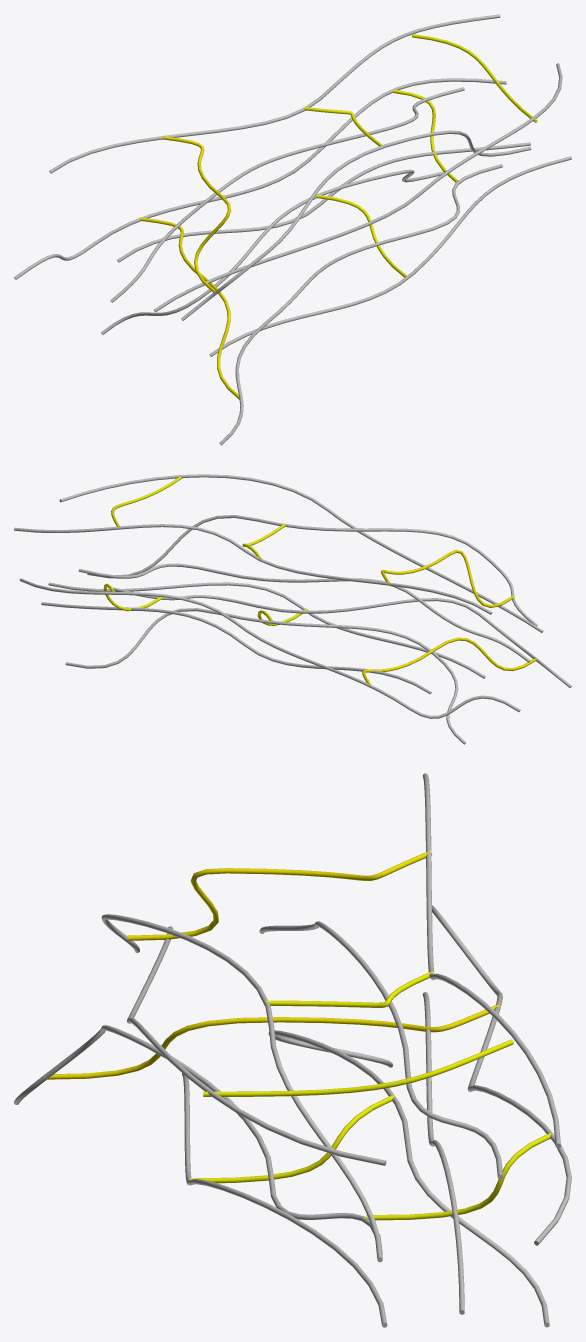
The model's file is Elastomer_Nudel.gltf.
3 views of the same model, one above another, from view 1: azimuth 30°, elevation 25°; view 2: azimuth 150°, elevation 25°; view 3: azimuth 270°, elevation 25° (orthographic). The views are drawn at different scales.
Visible parts, largest first — view 1: BezierCurve.004, BezierCurve.009, BezierCurve.011, BezierCurve.001, BezierCurve.010, BezierCurve.008, BezierCurve.002, BezierCurve, BezierCurve.003, BezierCurve.007, BezierCurve.013, BezierCurve.014; view 2: BezierCurve.004, BezierCurve.011, BezierCurve.009, BezierCurve.003, BezierCurve.008, BezierCurve.001, BezierCurve.010, BezierCurve.002, BezierCurve, BezierCurve.007, BezierCurve.013; view 3: BezierCurve.008, BezierCurve.003, BezierCurve.007, BezierCurve.009, BezierCurve.001, BezierCurve.004, BezierCurve.011, BezierCurve.010, BezierCurve.013, BezierCurve.002, BezierCurve, BezierCurve.014 (+3 smaller).
Boxes of the visible parts, x1,y1,x2,y2 form: BezierCurve.004: (14,78,506,279); BezierCurve.009: (49,14,500,173); BezierCurve.011: (154,63,562,312); BezierCurve.001: (219,164,502,445); BezierCurve.010: (110,87,464,302); BezierCurve.008: (181,130,531,320); BezierCurve.002: (209,156,571,356); BezierCurve: (117,142,530,262); BezierCurve.003: (101,169,443,334); BezierCurve.007: (139,217,241,399); BezierCurve.013: (163,136,231,293); BezierCurve.014: (412,34,537,122); BezierCurve.004: (19,578,520,718); BezierCurve.011: (59,474,543,632); BezierCurve.009: (14,524,492,614); BezierCurve.003: (65,608,465,744); BezierCurve.008: (87,515,537,626); BezierCurve.001: (113,587,571,687); BezierCurve.010: (78,563,530,662); BezierCurve.002: (48,582,485,678); BezierCurve: (41,602,431,694); BezierCurve.007: (362,637,537,686); BezierCurve.013: (381,549,514,607); BezierCurve.008: (101,914,382,1262); BezierCurve.003: (268,1030,549,1327); BezierCurve.007: (44,1004,500,1079); BezierCurve.009: (423,773,560,1148); BezierCurve.001: (14,1025,382,1254); BezierCurve.004: (432,905,571,1245); BezierCurve.011: (127,926,386,1165); BezierCurve.010: (259,921,502,1179); BezierCurve.013: (127,851,432,940); BezierCurve.002: (182,1073,387,1327); BezierCurve: (422,992,464,1314); BezierCurve.014: (203,1039,513,1096).
Bounding box in the file's own units: 3.25 × 1.24 × 1.84.
